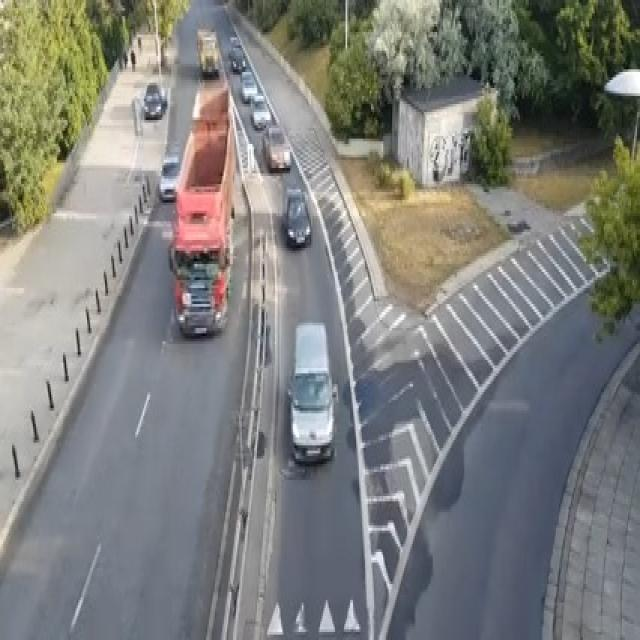bus: (167, 77, 236, 336)
car: (287, 320, 336, 464), (173, 261, 228, 336), (282, 187, 311, 248), (262, 122, 292, 170), (197, 27, 219, 77), (158, 155, 180, 200), (141, 80, 165, 117), (250, 93, 270, 128), (239, 70, 257, 102), (228, 45, 245, 72), (228, 35, 240, 45)
